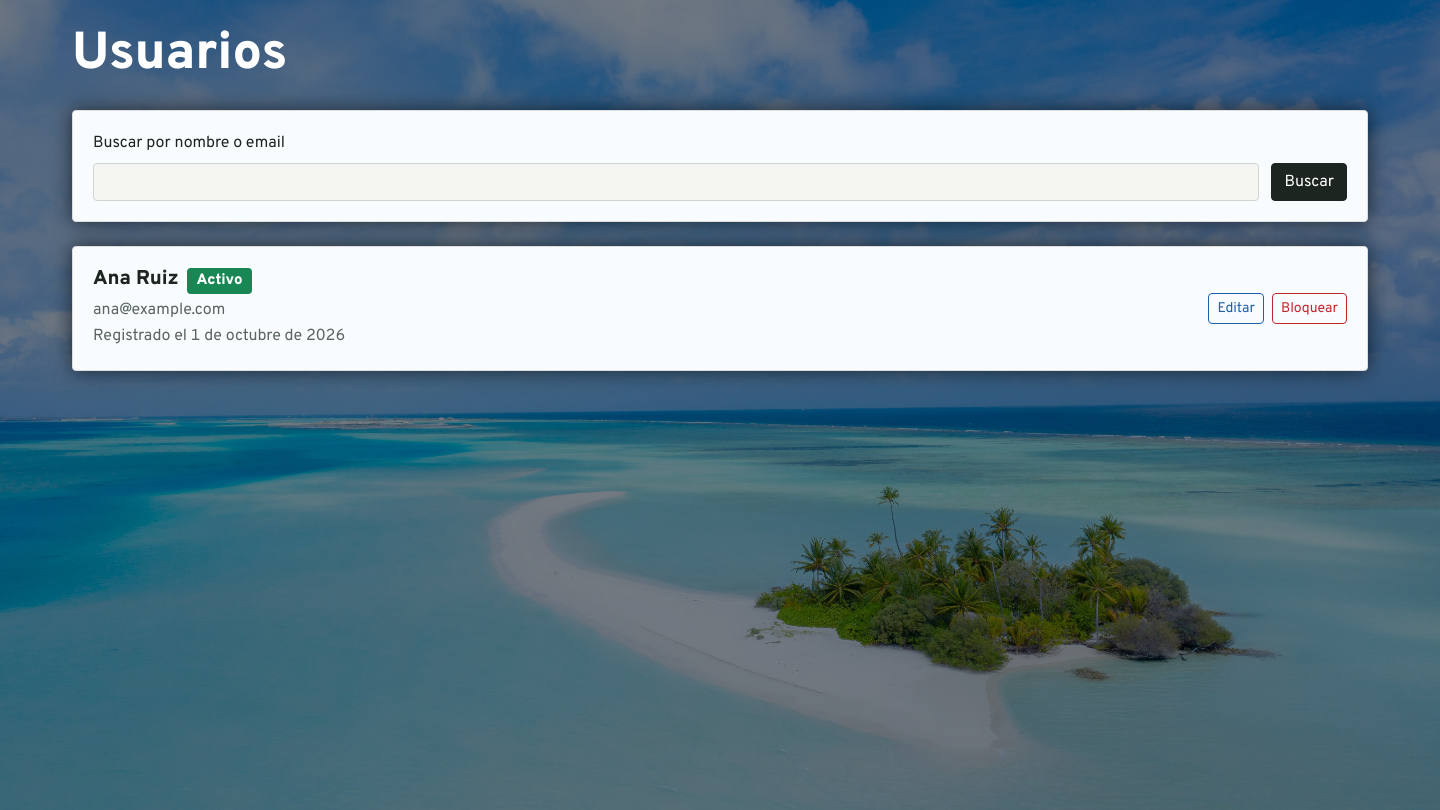
Test case: B7 AdminUsersPage list and search › says so when nothing matches the search
Expected: the heading "Ana Ruiz Activo" is shown, [93,266,252,294]
Type "zzz" into the search field labelled "Buscar por nombre o email". click: (676, 182)
box: [93,163,1260,201]
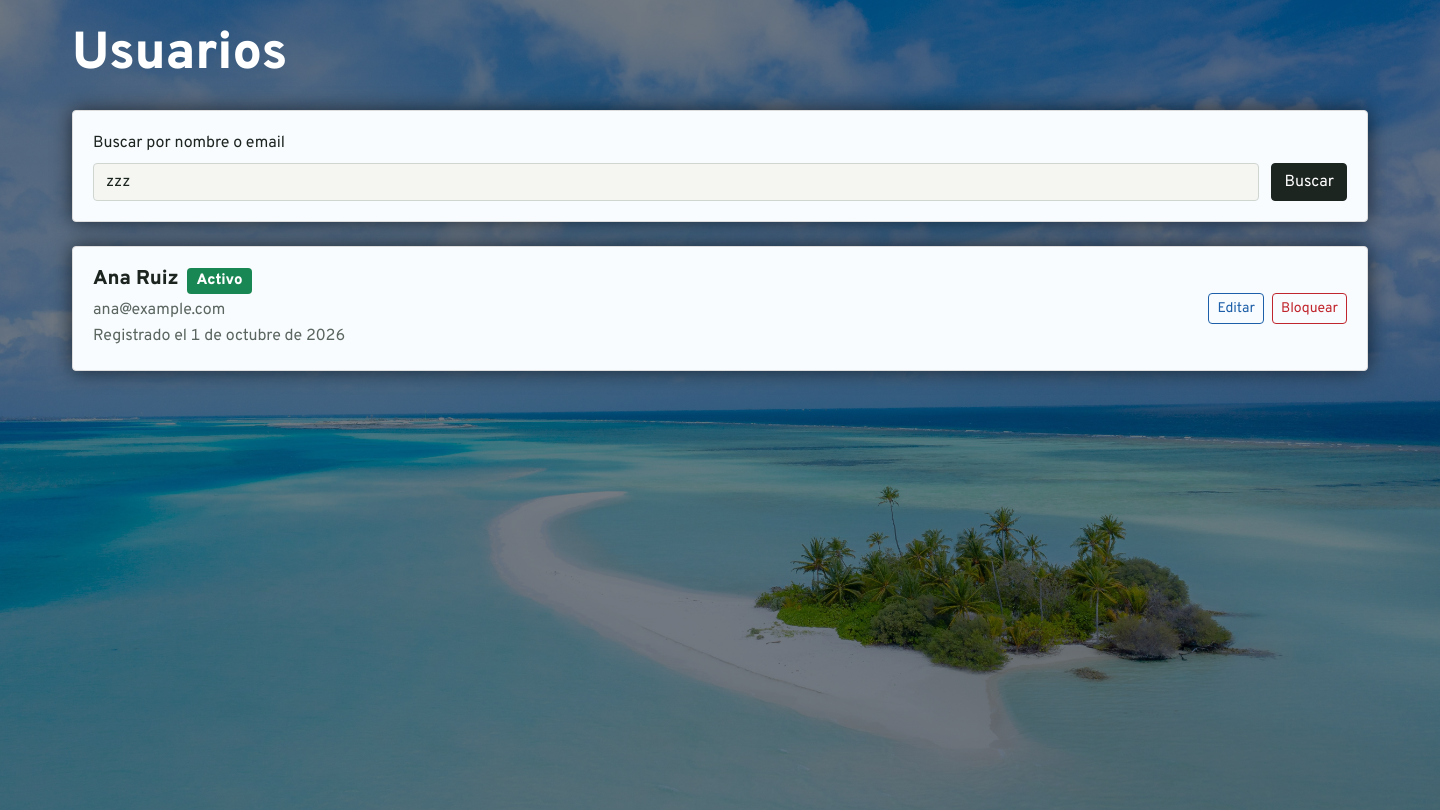
Click the button "Buscar". click: (1309, 182)
box: [1272,163,1347,201]
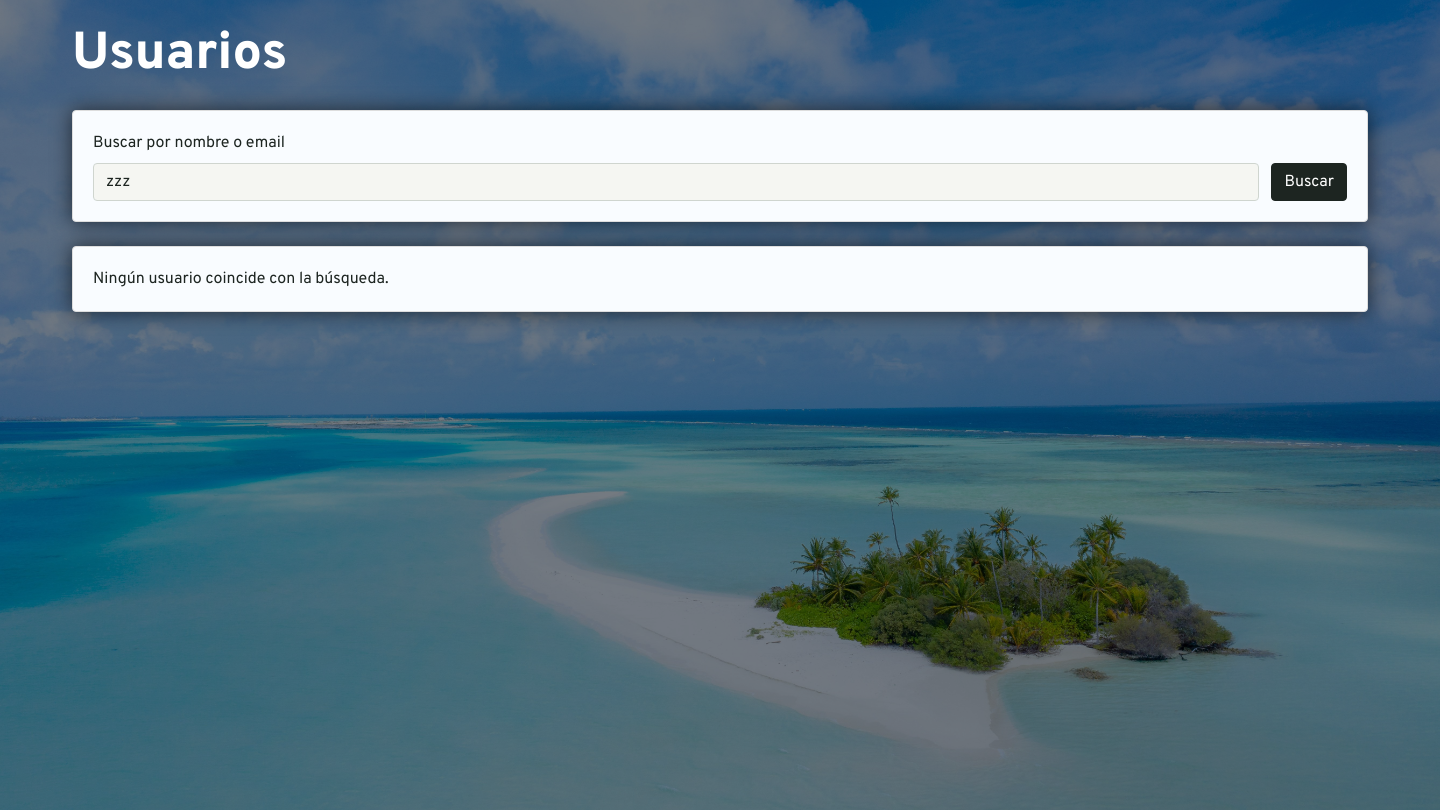
Result: the text "Ningún usuario coincide con la búsqueda." is shown at [93,269,389,289]
